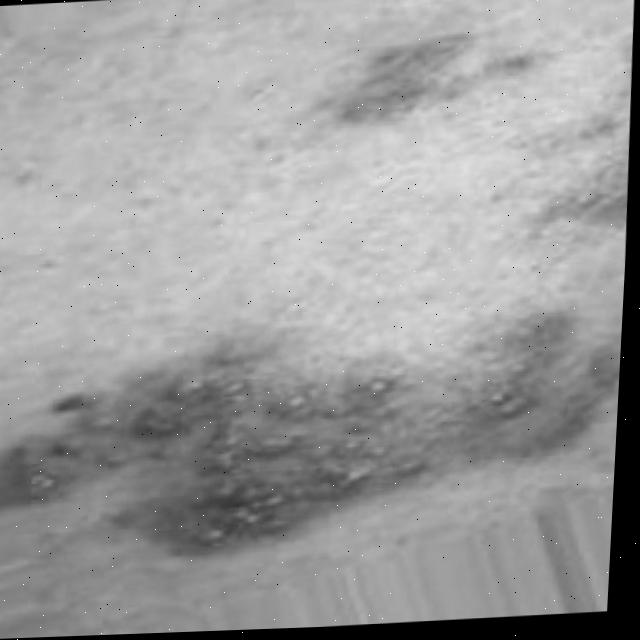Shingles: (0, 311, 623, 571), (329, 15, 637, 250)
